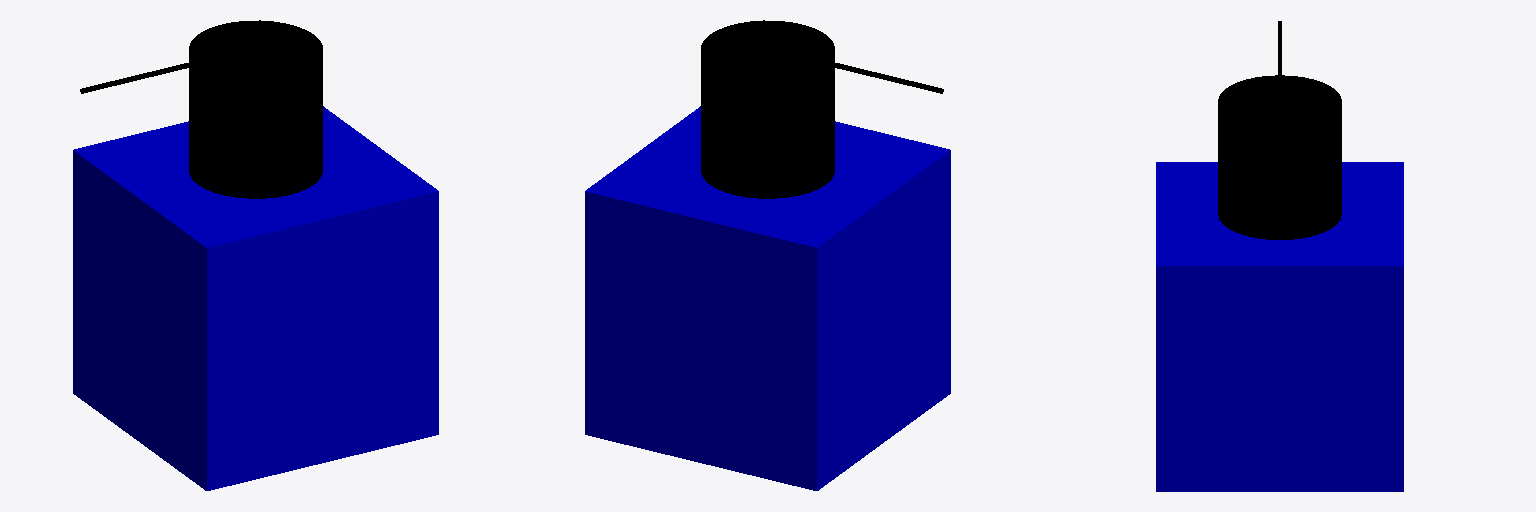
robot.urdf — nbmod:
<robot name="nbmod">
    <link name="base_footprint">
        <visual>
        <origin rpy="0 0 0" xyz="0 0 0"/>
        <geometry>
            <box size="0.001 0.001 0.001"/>
        </geometry>
        </visual>
    </link>

    <joint name="base_footprint_joint" type="fixed">
        <origin rpy="0 0 0" xyz="0 0 0.5"/>
        <parent link="base_footprint"/>
        <child link="base_link"/>
    </joint>

    <link name="base_link">
        <inertial>
            <origin xyz="0 0 0"/>
            <mass value="1.0"/>
            <inertia ixx="1.0" ixy="0.0" ixz="0.0" iyy="1.0" iyz="0.0" izz="1.0"/>
        </inertial>
        <visual>
            <geometry>
                <box size="1 1 1"/>
            </geometry>
            <origin rpy="0 0 0" xyz="0 0 0"/>
            <material name="blue">
                <color rgba="0 0 0.8 1"/>
            </material>
        </visual>
        <collision>
            <origin rpy="0 0 0" xyz="0 0 0"/>
            <geometry>
                <box size="1 1 1"/>
            </geometry>
            <inertial>
                <mass value="20"/>
                <inertia ixx="0.00533333333333" ixy="0" ixz="0" iyy="0.00833333333333" iyz="0" izz="0.0666666666667"/>
            </inertial>
        </collision>
    </link>

    <joint name="joint_base2lidar" type="continuous">
        <axis xyz="0 0 1"/>
        <parent link="base_link"/>
        <child link="lidar"/>
        <origin rpy="0 0 0" xyz="0 0 0.75"/>
        <limit effort="100" velocity="100"/>
        <joint_properties damping="0.0" friction="0.0"/>
    </joint>

    <link name="lidar">
    <inertial>
        <origin xyz="0 0 0"/>
        <mass value="0.1"/>
        <inertia ixx="1.0" ixy="0.0" ixz="0.0" iyy="1.0" iyz="0.0" izz="1.0"/>
    </inertial>
    <visual>
        <geometry>
            <cylinder length="0.5" radius="0.25"/>
        </geometry>
        <material name="black">
            <color rgba="0 0 0 1"/>
        </material>
    </visual>
    <collision>
        <origin rpy="0 0 0" xyz="0 0 0"/>
        <geometry>
            <cylinder length="0.5" radius="0.25"/>
        </geometry>
        <inertial>
            <mass value="1"/>
            <inertia ixx="0.000379166666667" ixy="0" ixz="0" iyy="0.000379166666667" iyz="0" izz="0.000625"/>
        </inertial>
    </collision>
    </link>

    <joint name="axle_lidar2barrel" type="revolute">
        <parent link="lidar"/>
        <child link="barrel"/>
        <origin rpy="0 -1.57 0" xyz="-0.25 0 0.25"/>
        <axis xyz="0 1 0"/>
        <limit effort="2.5" lower="0" upper="0.785" velocity="0.1"/>
    </joint>

    <link name="barrel">
        <inertial>
            <origin xyz="0 0 0.25"/>
            <mass value="0.1"/>
            <inertia ixx="1.0" ixy="0.0" ixz="0.0" iyy="1.0" iyz="0.0" izz="1.0"/>
        </inertial>
        <visual>
            <origin rpy="0 0 0" xyz="0 0 0.25"/>
            <geometry>
                <cylinder length="0.5" radius="0.01"/>
            </geometry>
            <material name="black">
                <color rgba="0 0 0 1"/>
            </material>
        </visual>
        <collision>
            <origin rpy="0 0 0" xyz="0 0 0.25"/>
            <geometry>
                <cylinder length="0.5" radius="0.01"/>
            </geometry>
            <inertial>
                <mass value="0.5"/>
                <inertia ixx="0.000379166666667" ixy="0" ixz="0" iyy="0.000379166666667" iyz="0" izz="0.000625"/>
            </inertial>
        </collision>
    </link>

    <gazebo reference="base_link">
        <material>Gazebo/White</material>
    </gazebo>
    <gazebo reference="lidar">
        <material>Gazebo/Blue</material>
    </gazebo>
    <gazebo reference="barrel">
        <material>Gazebo/Red</material>
    </gazebo>

    <transmission name="tran_lidar">
        <type>transmission_interface/SimpleTransmission</type>
        <joint name="joint_base2lidar">
            <hardwareInterface>hardware_interface/VelocityJointInterface</hardwareInterface>
        </joint>
        <actuator name="motor1">
            <hardwareInterface>hardware_interface/VelocityJointInterface</hardwareInterface>
            <mechanicalReduction>1</mechanicalReduction>
        </actuator>
    </transmission>

    <transmission name="tran_barrel">
        <type>transmission_interface/SimpleTransmission</type>
        <joint name="axle_lidar2barrel">
            <hardwareInterface>hardware_interface/PositionJointInterface</hardwareInterface>
        </joint>
        <actuator name="motor2">
            <hardwareInterface>hardware_interface/PositionJointInterface</hardwareInterface>
            <mechanicalReduction>1</mechanicalReduction>
        </actuator>
    </transmission>

    <gazebo>
        <plugin filename="libgazebo_ros_control.so" name="ros_control">
            <robotNamespace>/nbmod</robotNamespace>
        </plugin>
    </gazebo>
</robot>

--- What the picture shows (computed from the rendered views, not written in the file) ---
3 views of the same robot in one strip: view 1: azimuth 30°, elevation 25°; view 2: azimuth 150°, elevation 25°; view 3: azimuth 270°, elevation 25° (orthographic).
Robot: nbmod — 4 links, 3 joints (1 revolute, 1 continuous, 1 fixed); root link base_footprint; default pose: all joints at 0.
Visible links, largest first — view 1: base_link, lidar, barrel; view 2: base_link, lidar, barrel; view 3: base_link, lidar.
Boxes of the visible links, <box> form: base_link: <box>73,106,438,490</box>; lidar: <box>189,20,322,198</box>; barrel: <box>80,60,198,93</box>; base_link: <box>585,106,950,490</box>; lidar: <box>701,20,834,198</box>; barrel: <box>825,60,943,93</box>; base_link: <box>1156,162,1403,491</box>; lidar: <box>1218,75,1341,239</box>.
Bounding box of the posed robot: 1.25 × 1 × 1.51 m (x, y, z).
Geometry: primitives only (box / cylinder / sphere), no mesh files.